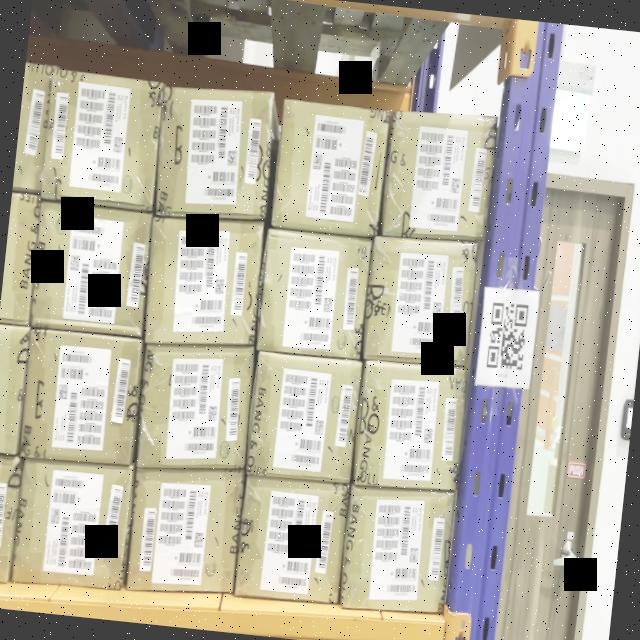box: (38, 70, 164, 212), (18, 331, 140, 468), (271, 99, 390, 232), (156, 88, 274, 222), (28, 206, 150, 334), (9, 464, 128, 592), (144, 219, 260, 350), (355, 360, 468, 492), (134, 348, 250, 476), (248, 352, 360, 483), (126, 472, 242, 598), (366, 242, 481, 365), (260, 228, 371, 354), (235, 480, 346, 605), (385, 114, 493, 240), (342, 493, 452, 611)
